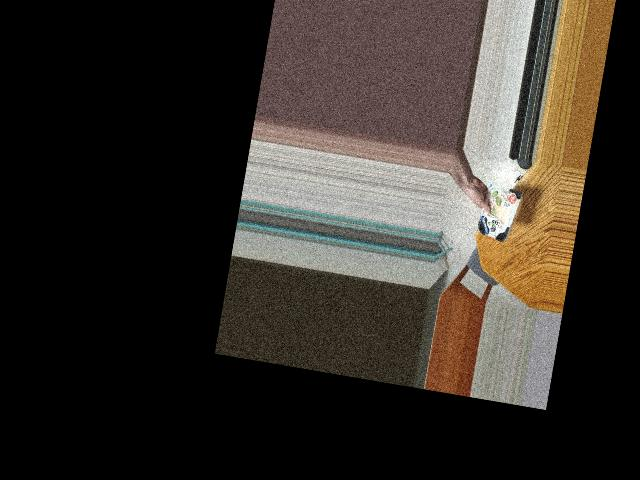cheese: (466, 178, 526, 243)
